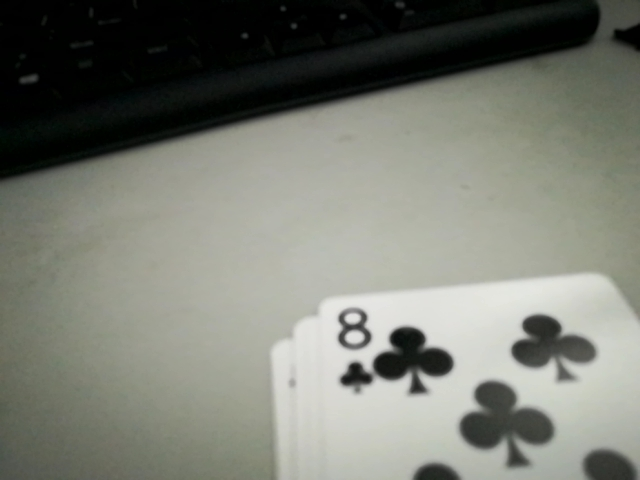mh 8: (316, 297, 374, 404)
